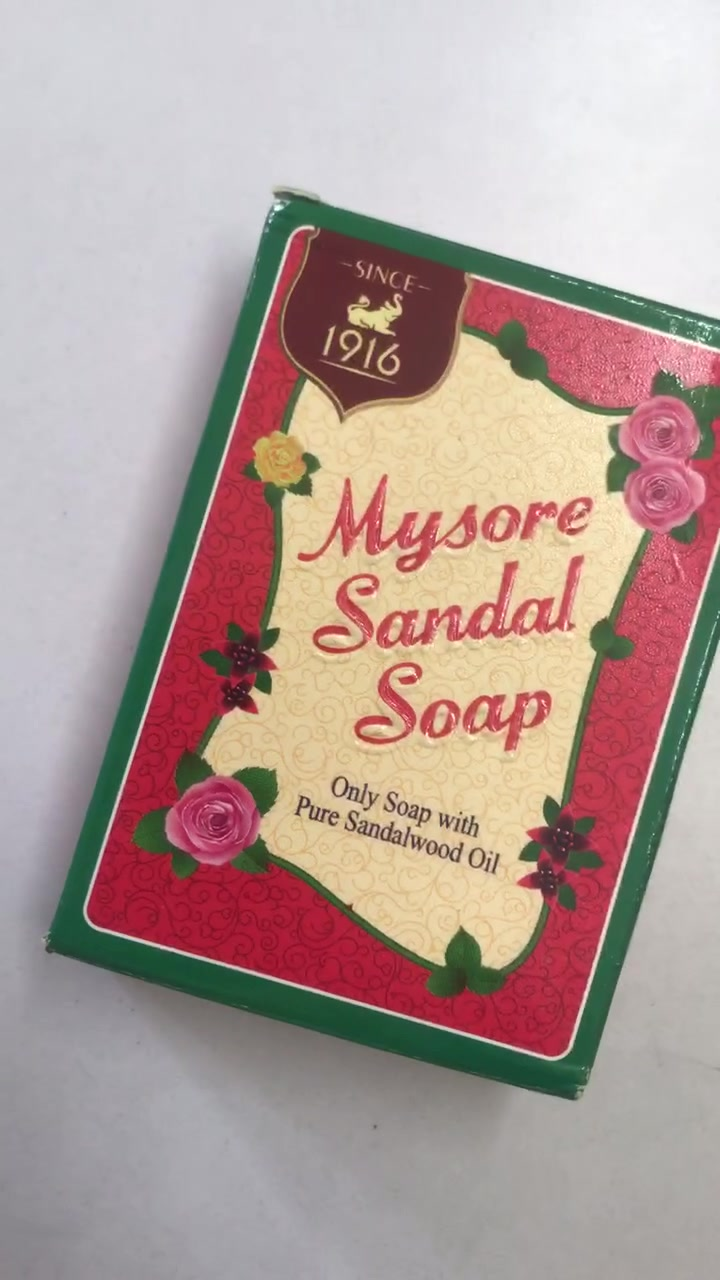mysore sandal soap: (48, 200, 720, 1097)
